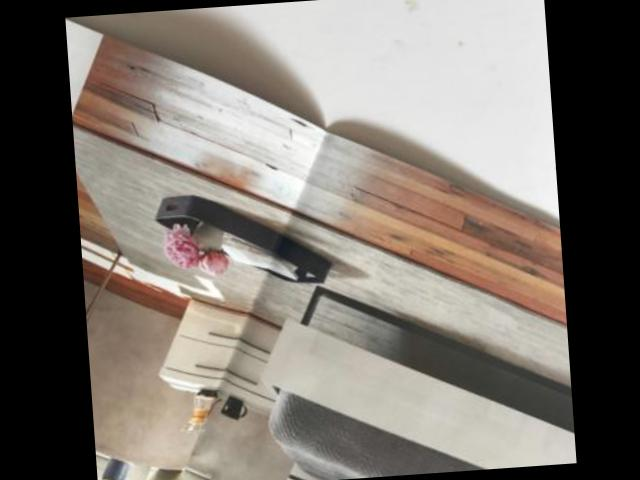cardboard paper: (64, 17, 576, 480)
